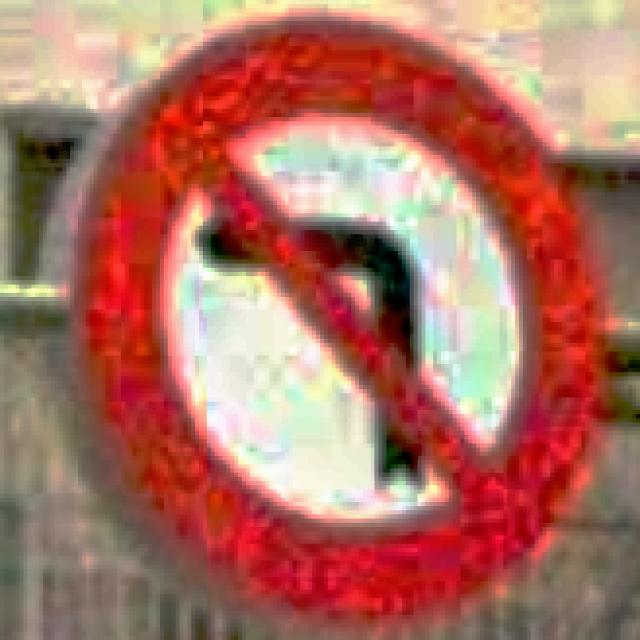noturnleft: (54, 8, 616, 636)
